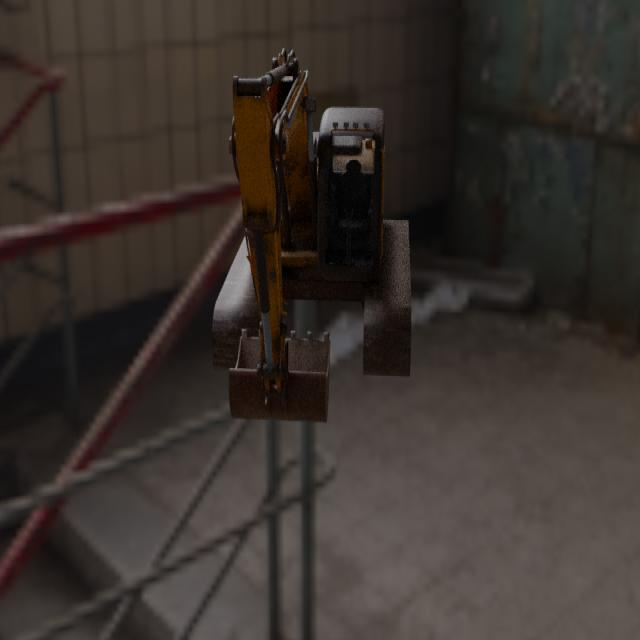excavator: (211, 46, 411, 422)
